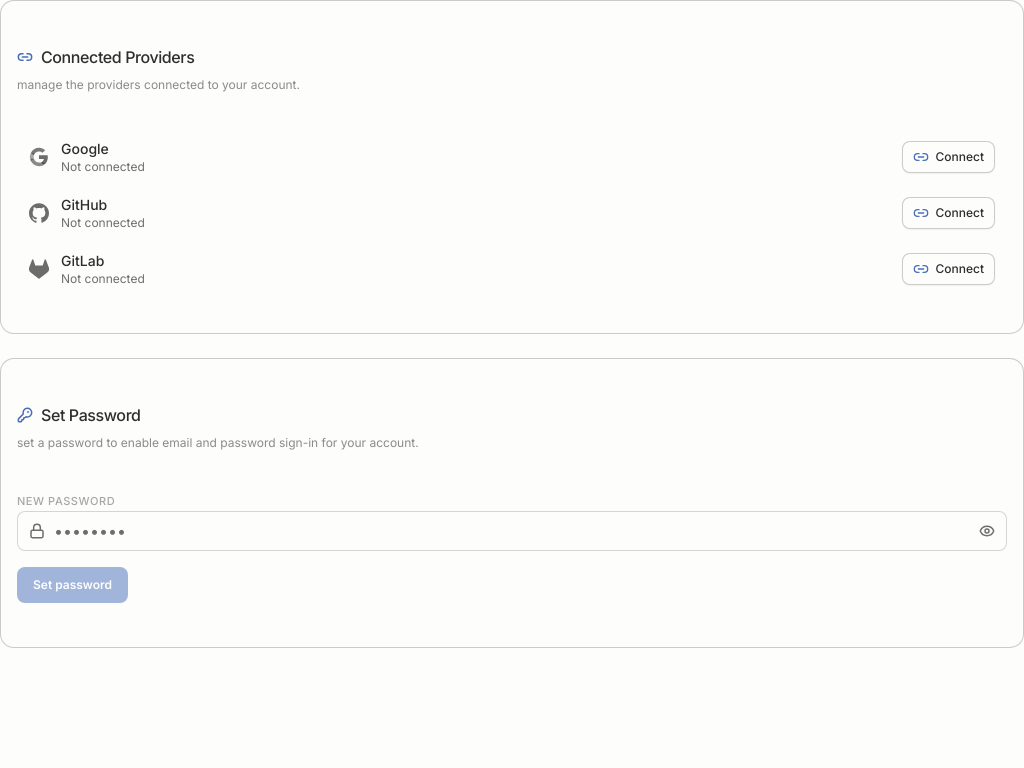
Test: AccountSection › surfaces an error and re-enables the resend button when reauthenticate() rejects
In the password field labelled "New Password": (512, 531) [17,511,1007,551], type "hunter2222"
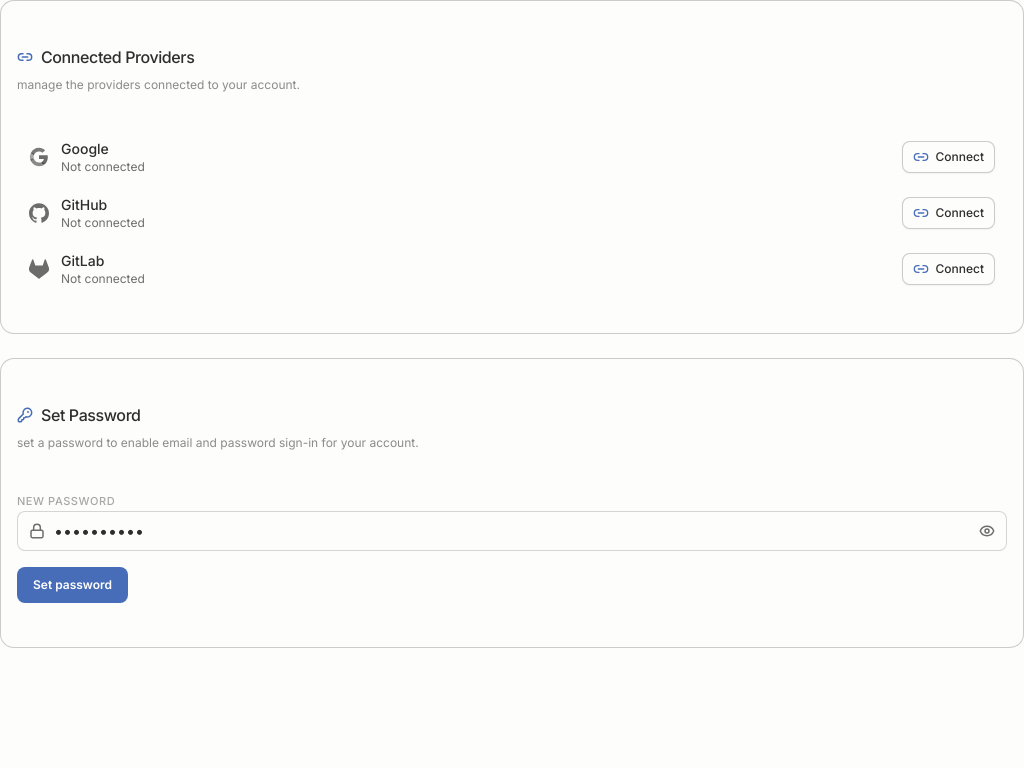
Click the button "Set password": (72, 585) [17,567,128,603]
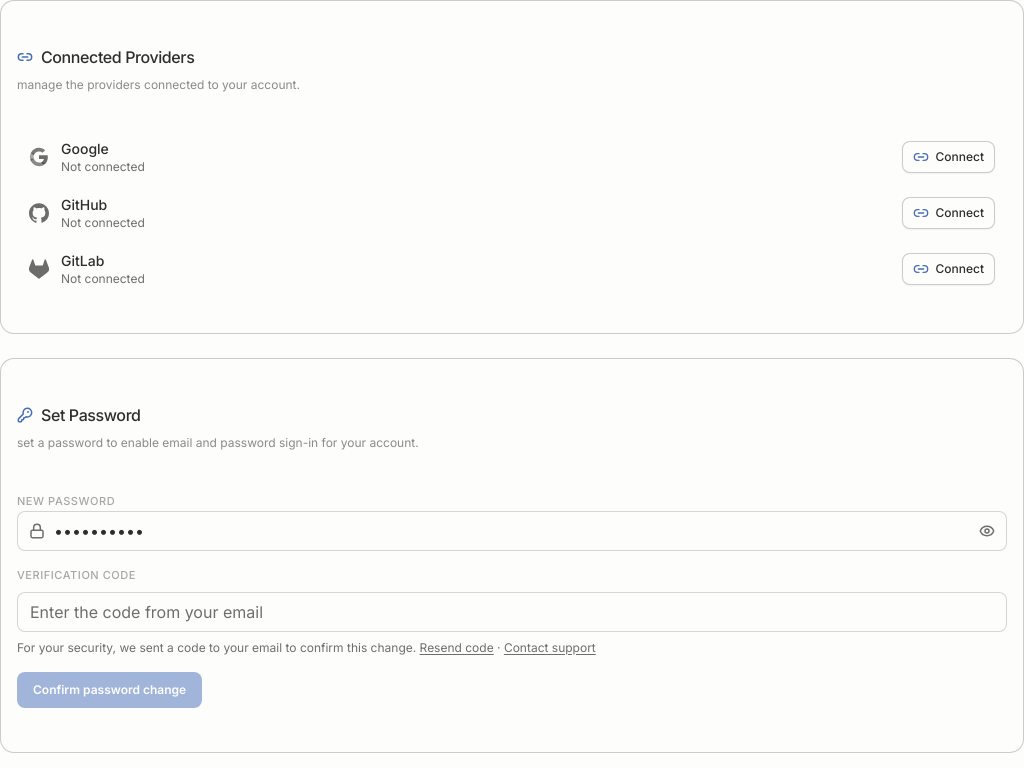
Click the button "Resend code": (457, 648) [420,640,494,656]
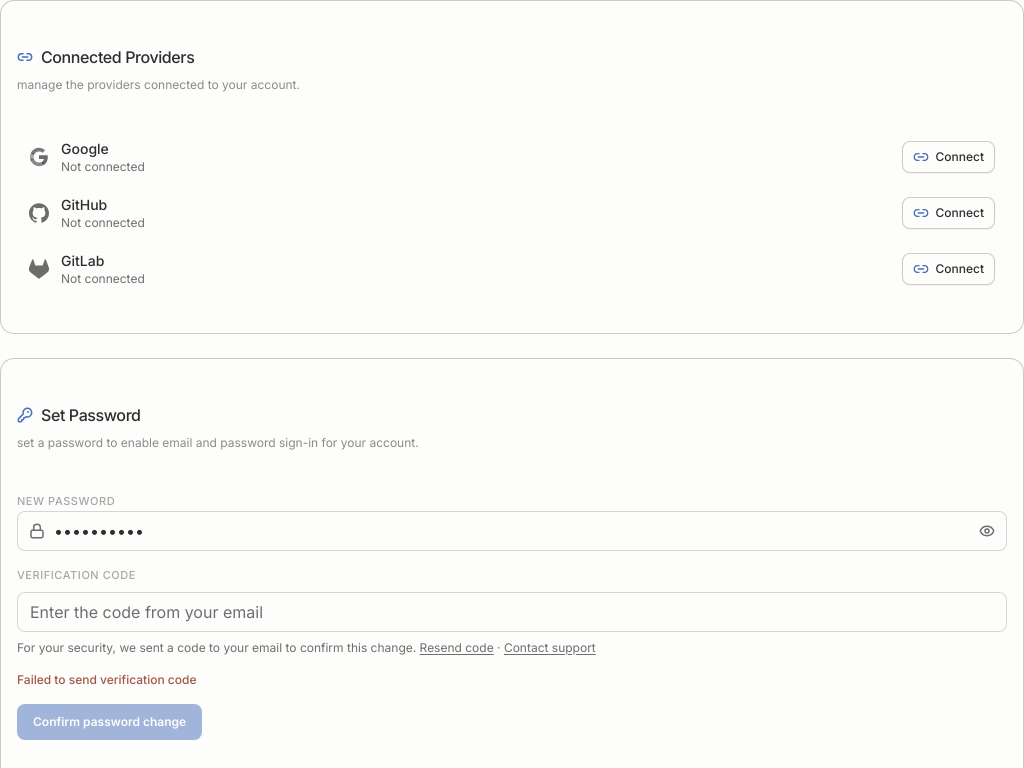
Check: the button "Resend code" is enabled, box [420,640,494,656]
Check: the text "Failed to send verification code" is shown, box [17,672,196,686]
